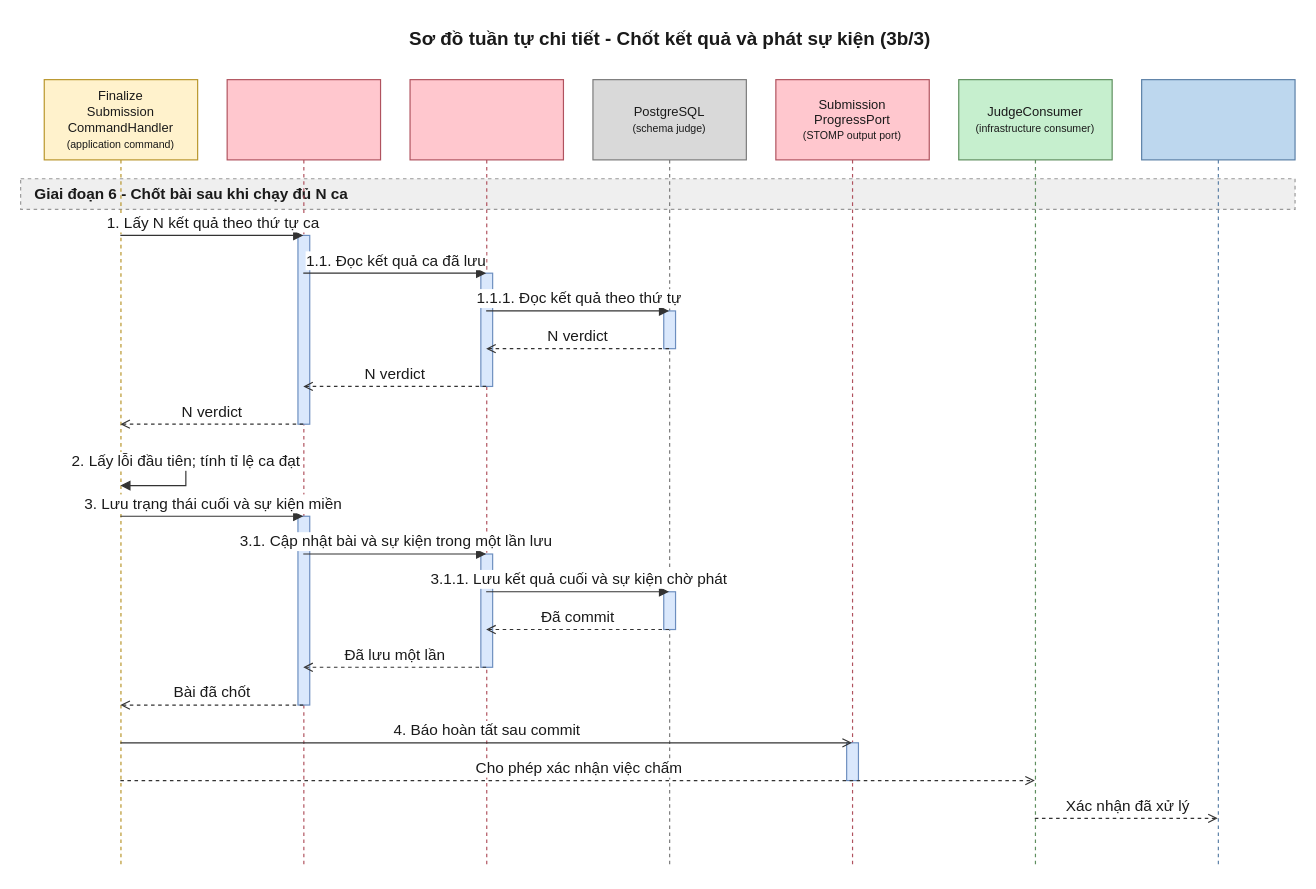
Image size: 1316x889. Some labels were removed from this diagram. Here are the shapes that lost their labels. From the top down, the box of each, then its label:
(226, 78, 381, 868): Submission Worker Repository (domain output port)
(409, 78, 563, 868): JdbcSubmission Worker Repository (infrastructure)
(1140, 78, 1295, 868): RabbitMQ (hàng đợi)
